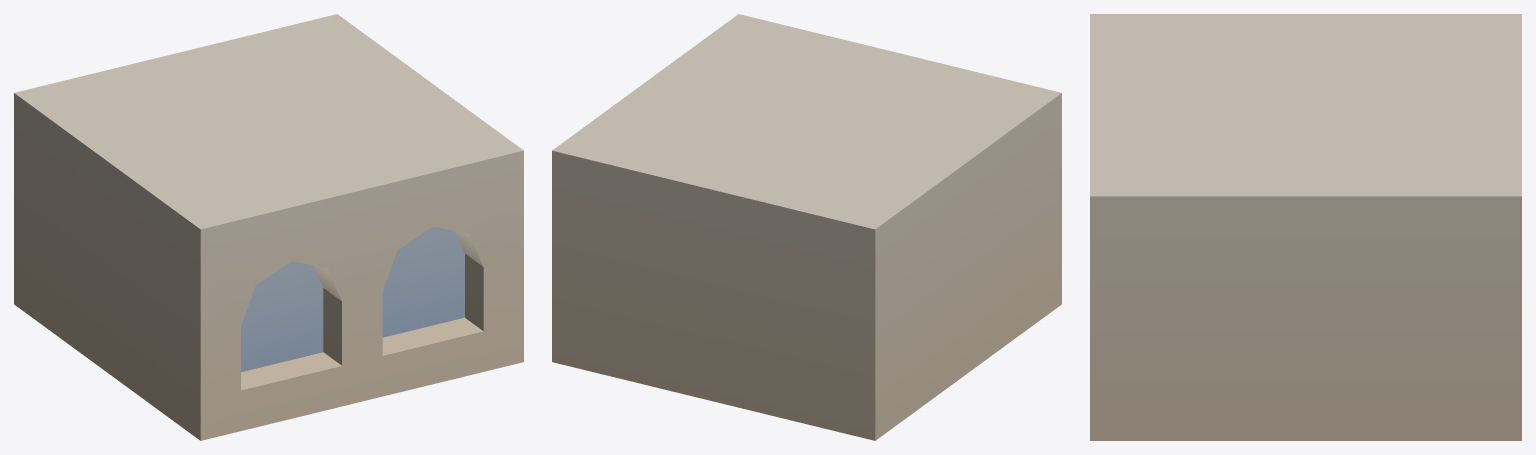
Rendered from building-windows-round.glb.
The picture shows the model from 3 angles, left to right: view 1: azimuth 30°, elevation 25°; view 2: azimuth 150°, elevation 25°; view 3: azimuth 270°, elevation 25°; orthographic projection. The views are drawn at different scales.
Parts seen in each view (by area): view 1: building-windows-round; view 2: building-windows-round; view 3: building-windows-round.
Part boxes in pixels (x1,y1,x2,y2): building-windows-round: (14,14,523,440); building-windows-round: (552,14,1061,440); building-windows-round: (1090,14,1521,440).
Size of the model in its own units: 1 by 0.625 by 1.
